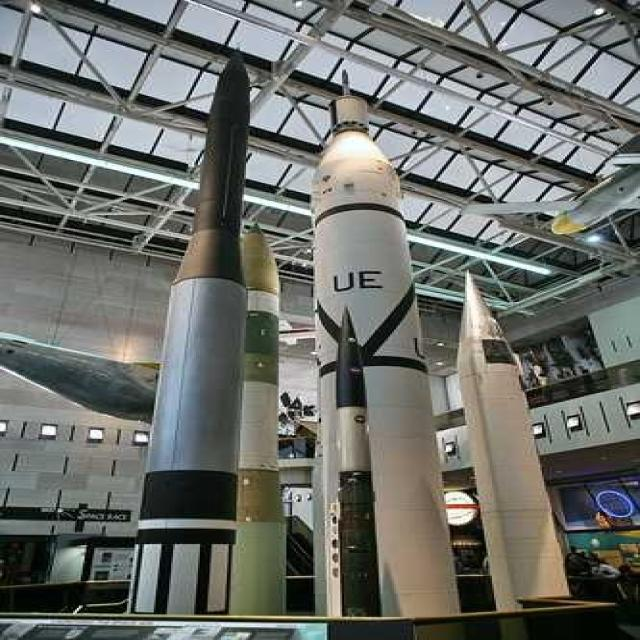missile: (299, 82, 453, 630), (149, 58, 262, 622), (436, 256, 591, 616)
